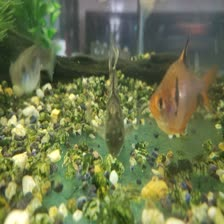Guppy: (5, 26, 59, 93)
Kiros: (96, 52, 140, 158)
Transparente: (147, 35, 220, 138)
